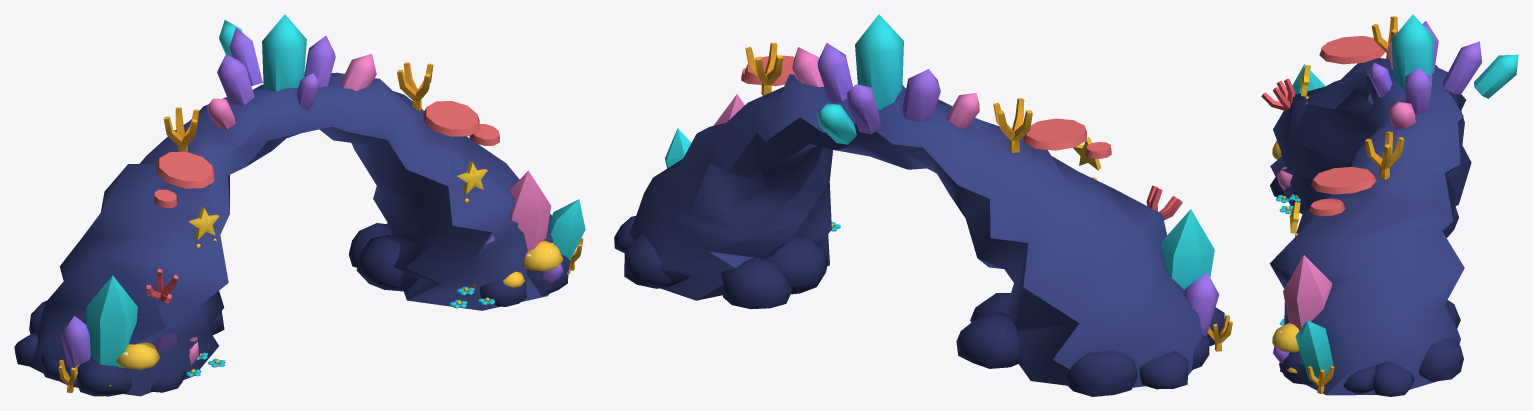
File: MB_LM_CrystalArch_v3.fbx
3 renders of one model, left to right at view 1: azimuth 30°, elevation 25°; view 2: azimuth 150°, elevation 25°; view 3: azimuth 270°, elevation 25°, orthographic. The views are drawn at different scales.
Parts seen in each view (by area): view 1: Rock, Crystals, Decor, Glow; view 2: Rock, Crystals, Decor; view 3: Rock, Crystals, Decor, Glow.
Part boxes in pixels (bbox=[...]): Rock: bbox=[14, 72, 570, 396]; Crystals: bbox=[61, 14, 585, 379]; Decor: bbox=[58, 62, 583, 396]; Glow: bbox=[109, 161, 570, 386]; Rock: bbox=[614, 74, 1224, 396]; Crystals: bbox=[664, 14, 1219, 336]; Decor: bbox=[741, 42, 1232, 351]; Rock: bbox=[1269, 58, 1471, 396]; Crystals: bbox=[1273, 14, 1518, 383]; Decor: bbox=[1261, 16, 1404, 393]; Glow: bbox=[1272, 65, 1310, 373].
Bounding box in the file's own units: 15023 × 7686 × 6635.
1 material, 1 textured.
